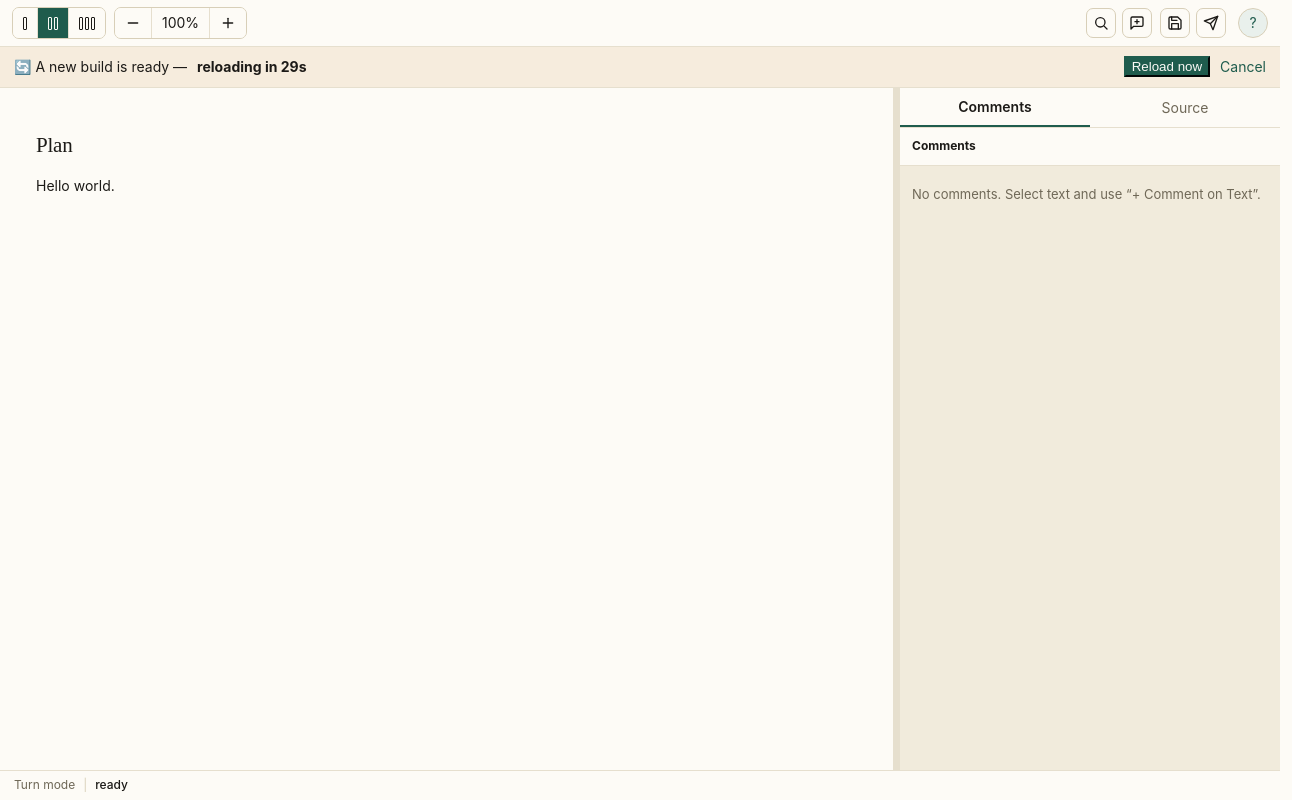
Test case: App reload countdown (memory-backed) › 'Cancel' stops the countdown and dismisses the banner without closing
The width and height of the screenshot is (1292, 800).
Step 1. Click the button "Cancel" → click(1243, 67), box [1220,56,1266,78]
Wait 60000 ms
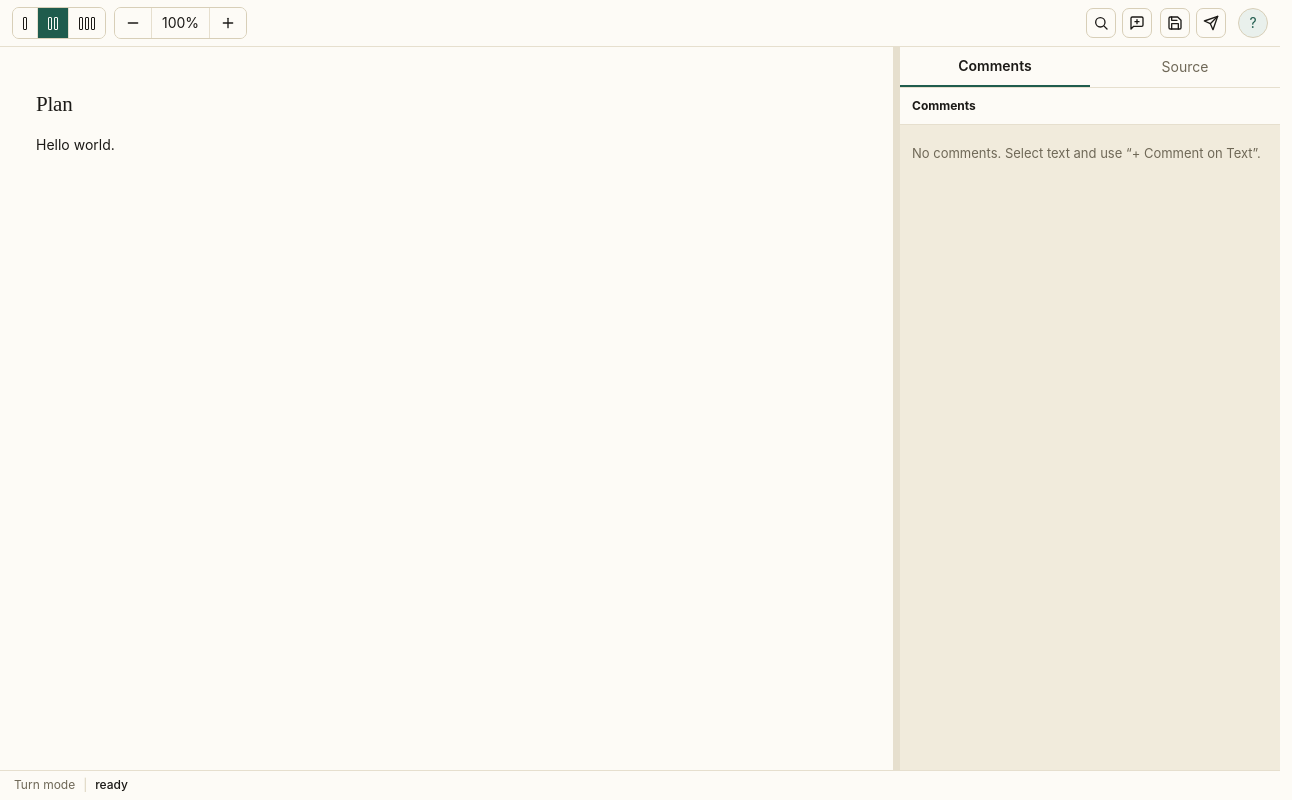
Expected: the text "A new build is ready" is gone
